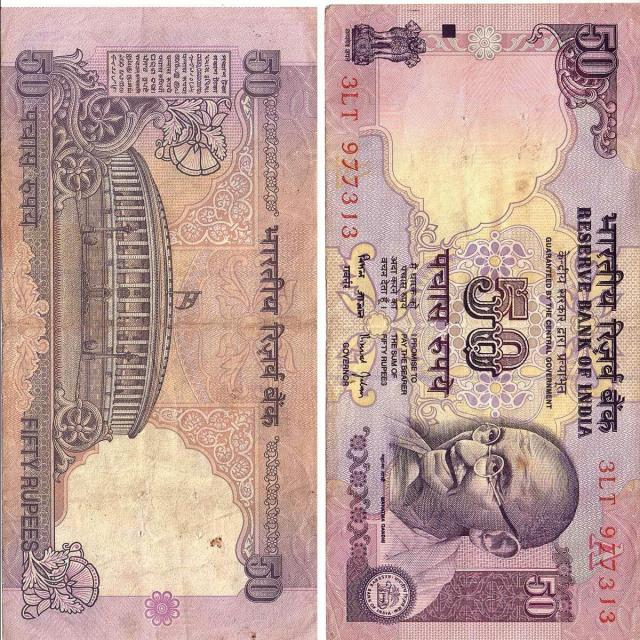50IndianRupees: (4, 18, 312, 640)
